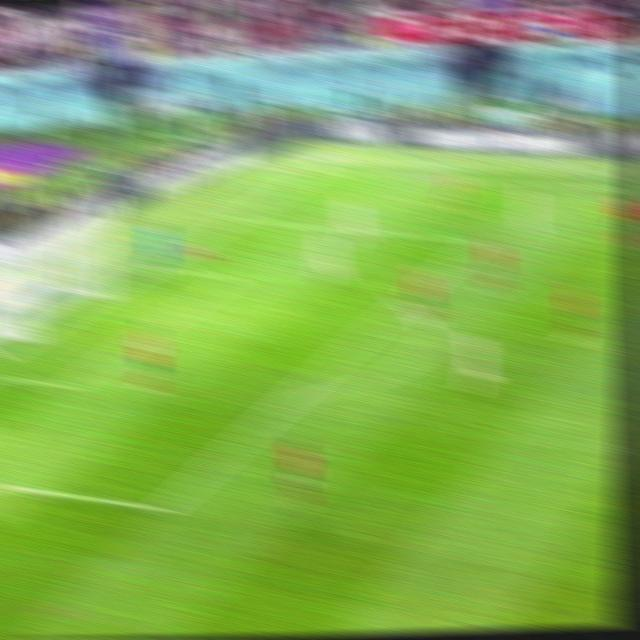bigarea_bottom_inner: (146, 494, 180, 521)
bigarea_top_inner: (465, 230, 493, 251)
bigarea_top_outter: (223, 208, 251, 228)
bottom_arc_area_intersection: (278, 383, 308, 407)
corner: (307, 161, 337, 176)
smallarea_bottom_inner: (52, 369, 87, 398)
smallarea_top_inner: (218, 265, 250, 287)
smallarea_top_outter: (141, 257, 168, 277)
top_arc_area_intersection: (388, 291, 418, 313)
